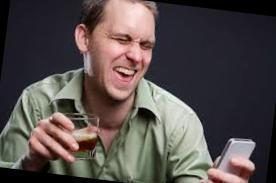Drunk: (100, 3, 152, 94)
